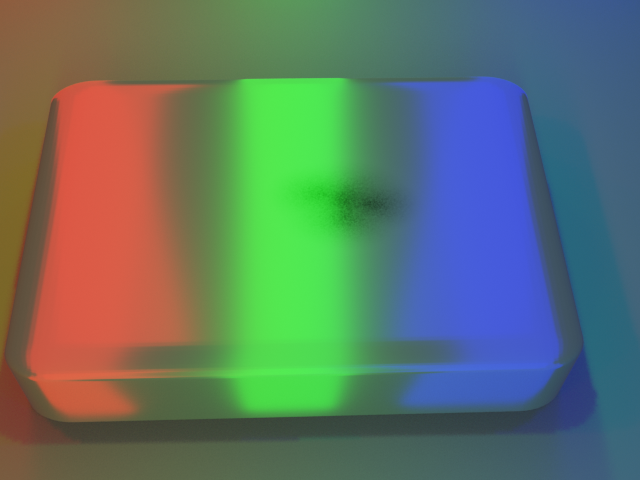stain: (240, 139, 452, 259)
